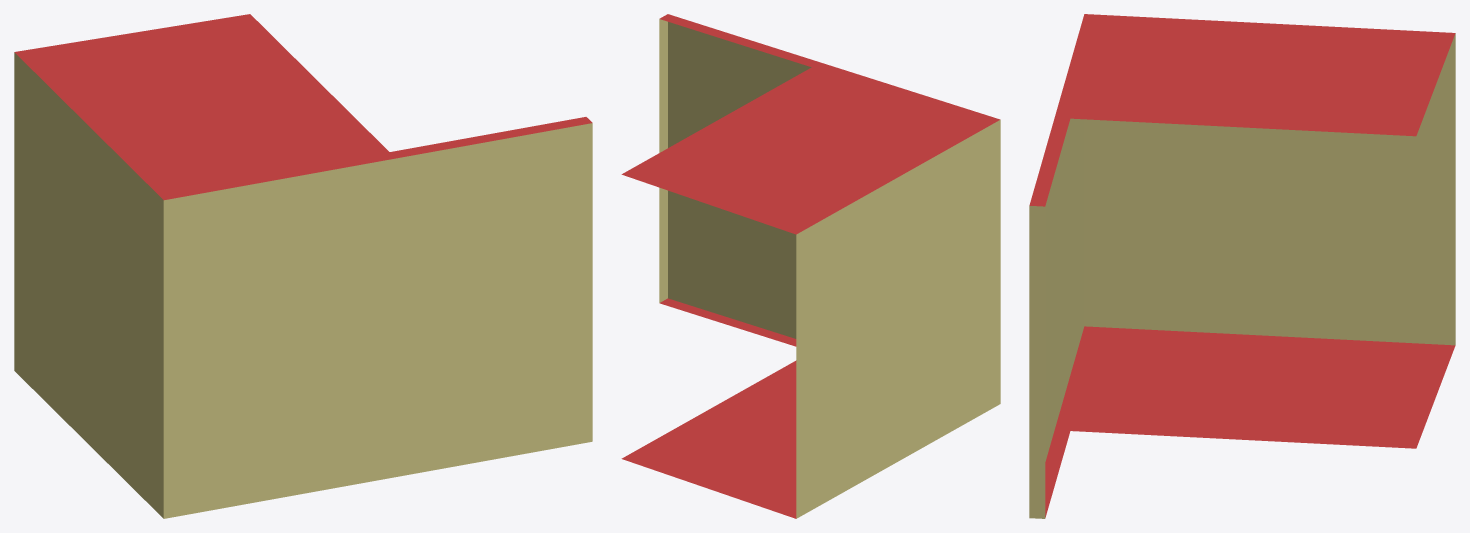
3 views of the same model, side by side, from view 1: azimuth 30°, elevation 25°; view 2: azimuth 150°, elevation 25°; view 3: azimuth 270°, elevation 25° (orthographic). The views are drawn at different scales.
Size of the model in its own units: 7.15 by 6.68 by 5.41.
